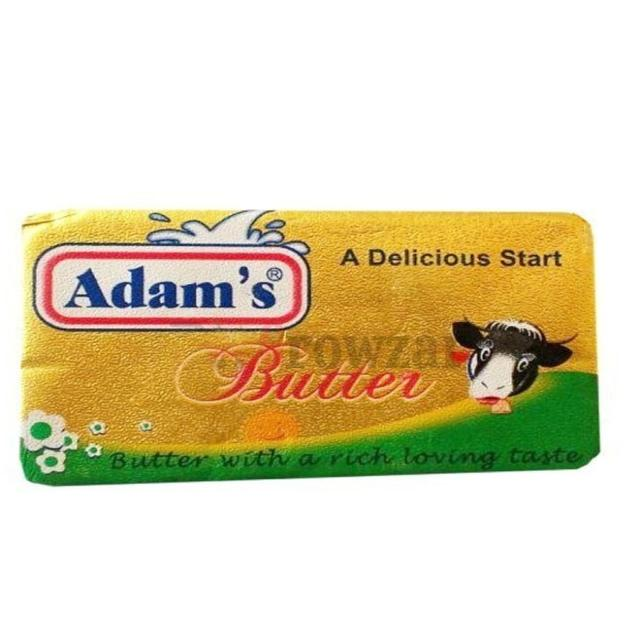butter: (19, 208, 598, 485)
